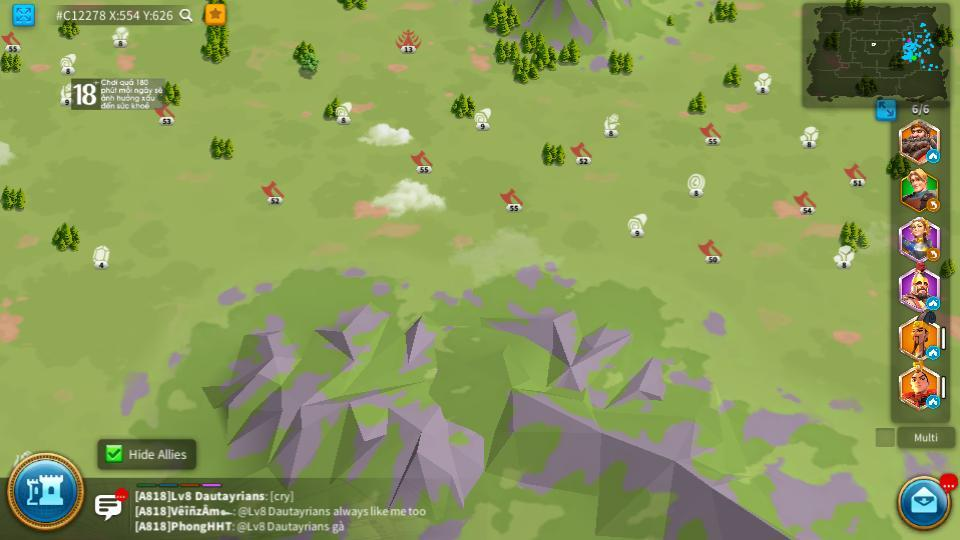gem-z-out: (90, 246, 113, 268)
march_idle: (926, 396, 941, 407), (927, 151, 940, 162), (926, 297, 940, 307), (927, 347, 940, 357)
march_returning: (926, 248, 941, 259), (927, 201, 941, 212)
